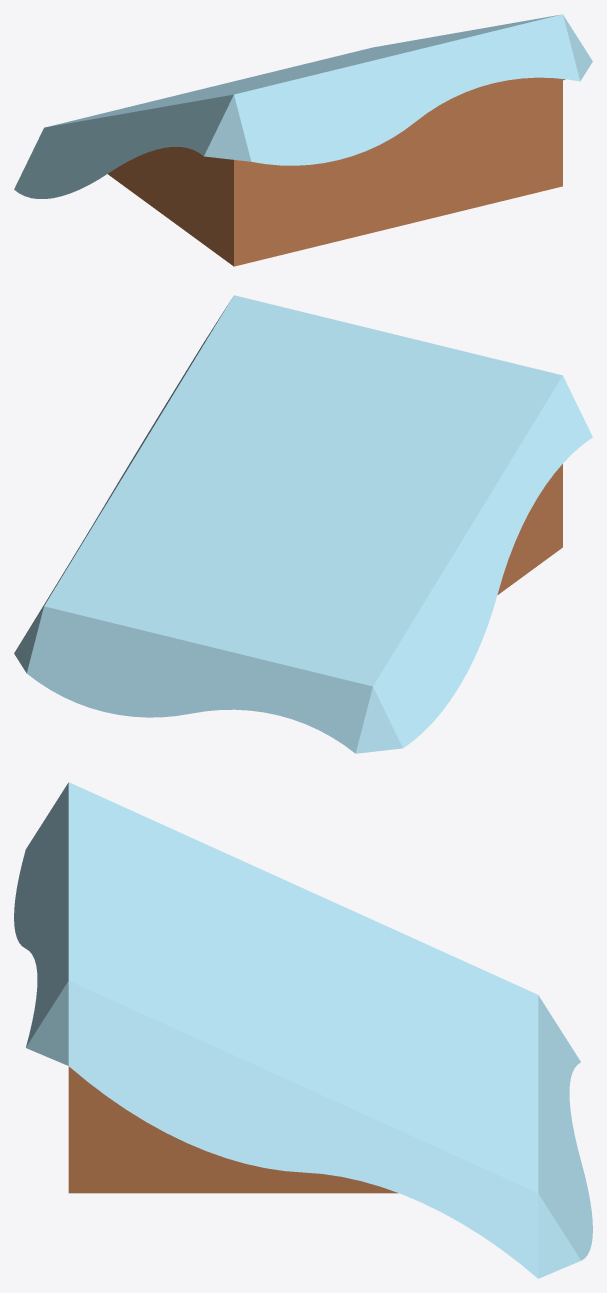
The model's file is blockSnowSlopeHalf.dae.
3 views of the same model, one above another, from view 1: azimuth 30°, elevation 25°; view 2: azimuth 150°, elevation 25°; view 3: azimuth 270°, elevation 25° (orthographic). The views are drawn at different scales.
Parts seen in each view (by area): view 1: blockSnowSlopeHalf; view 2: blockSnowSlopeHalf; view 3: blockSnowSlopeHalf.
Part boxes in pixels (x1,y1,x2,y2): blockSnowSlopeHalf: (14,14,592,266); blockSnowSlopeHalf: (14,295,592,753); blockSnowSlopeHalf: (14,782,592,1278).
Bounding box in the file's own units: 1.23 × 0.7018 × 1.23.
